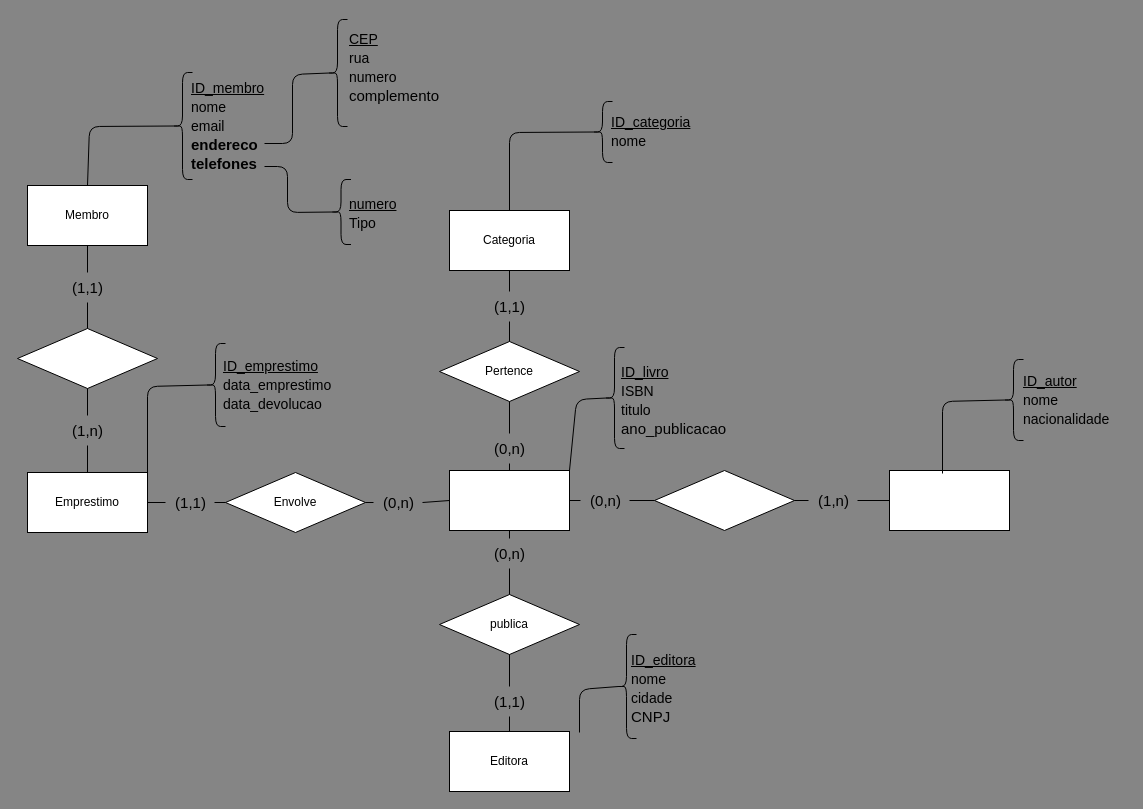
Some shapes in this 1143 by 809 pixel diagram are drawn without their labels. The shapes that lost their labels are listed below. From the top down, each one's centre as x and y in pixels, then its label:
At point (87, 358): "Realiza".
At point (509, 500): "Livro".
At point (724, 500): "Escreve".
At point (949, 500): "Autor".
